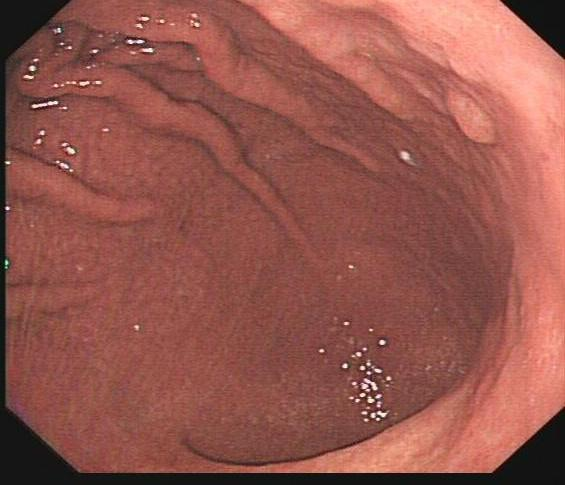Polyp: (444, 87, 498, 148)
